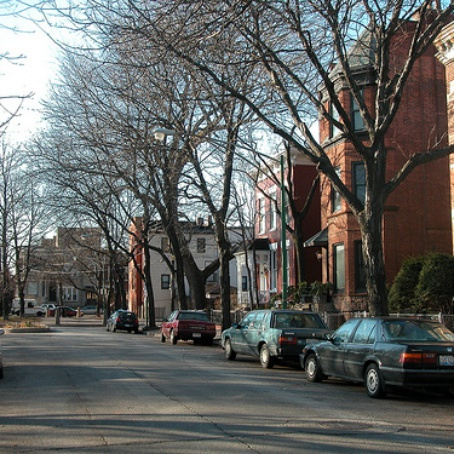building: (323, 26, 443, 302), (245, 145, 323, 302), (132, 221, 249, 303)
car: (309, 308, 454, 399), (218, 303, 327, 365), (160, 306, 215, 349), (102, 306, 142, 334)
street: (3, 336, 423, 454)
vegetation: (1, 1, 393, 292)
